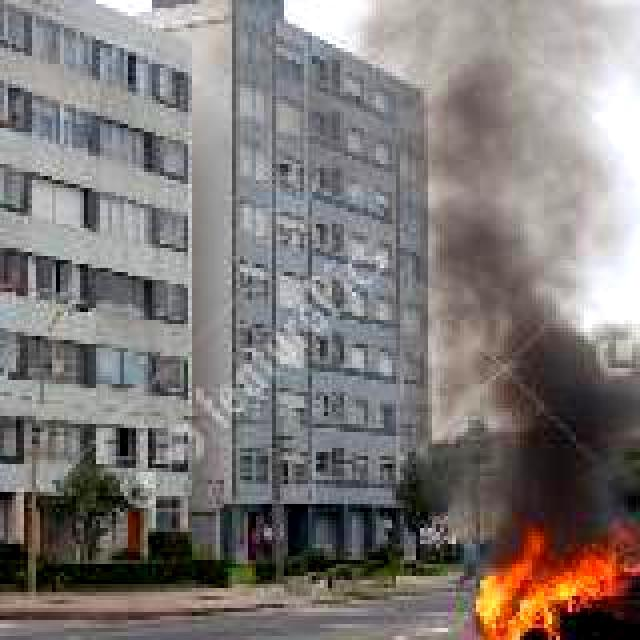smoke: (410, 0, 640, 552)
